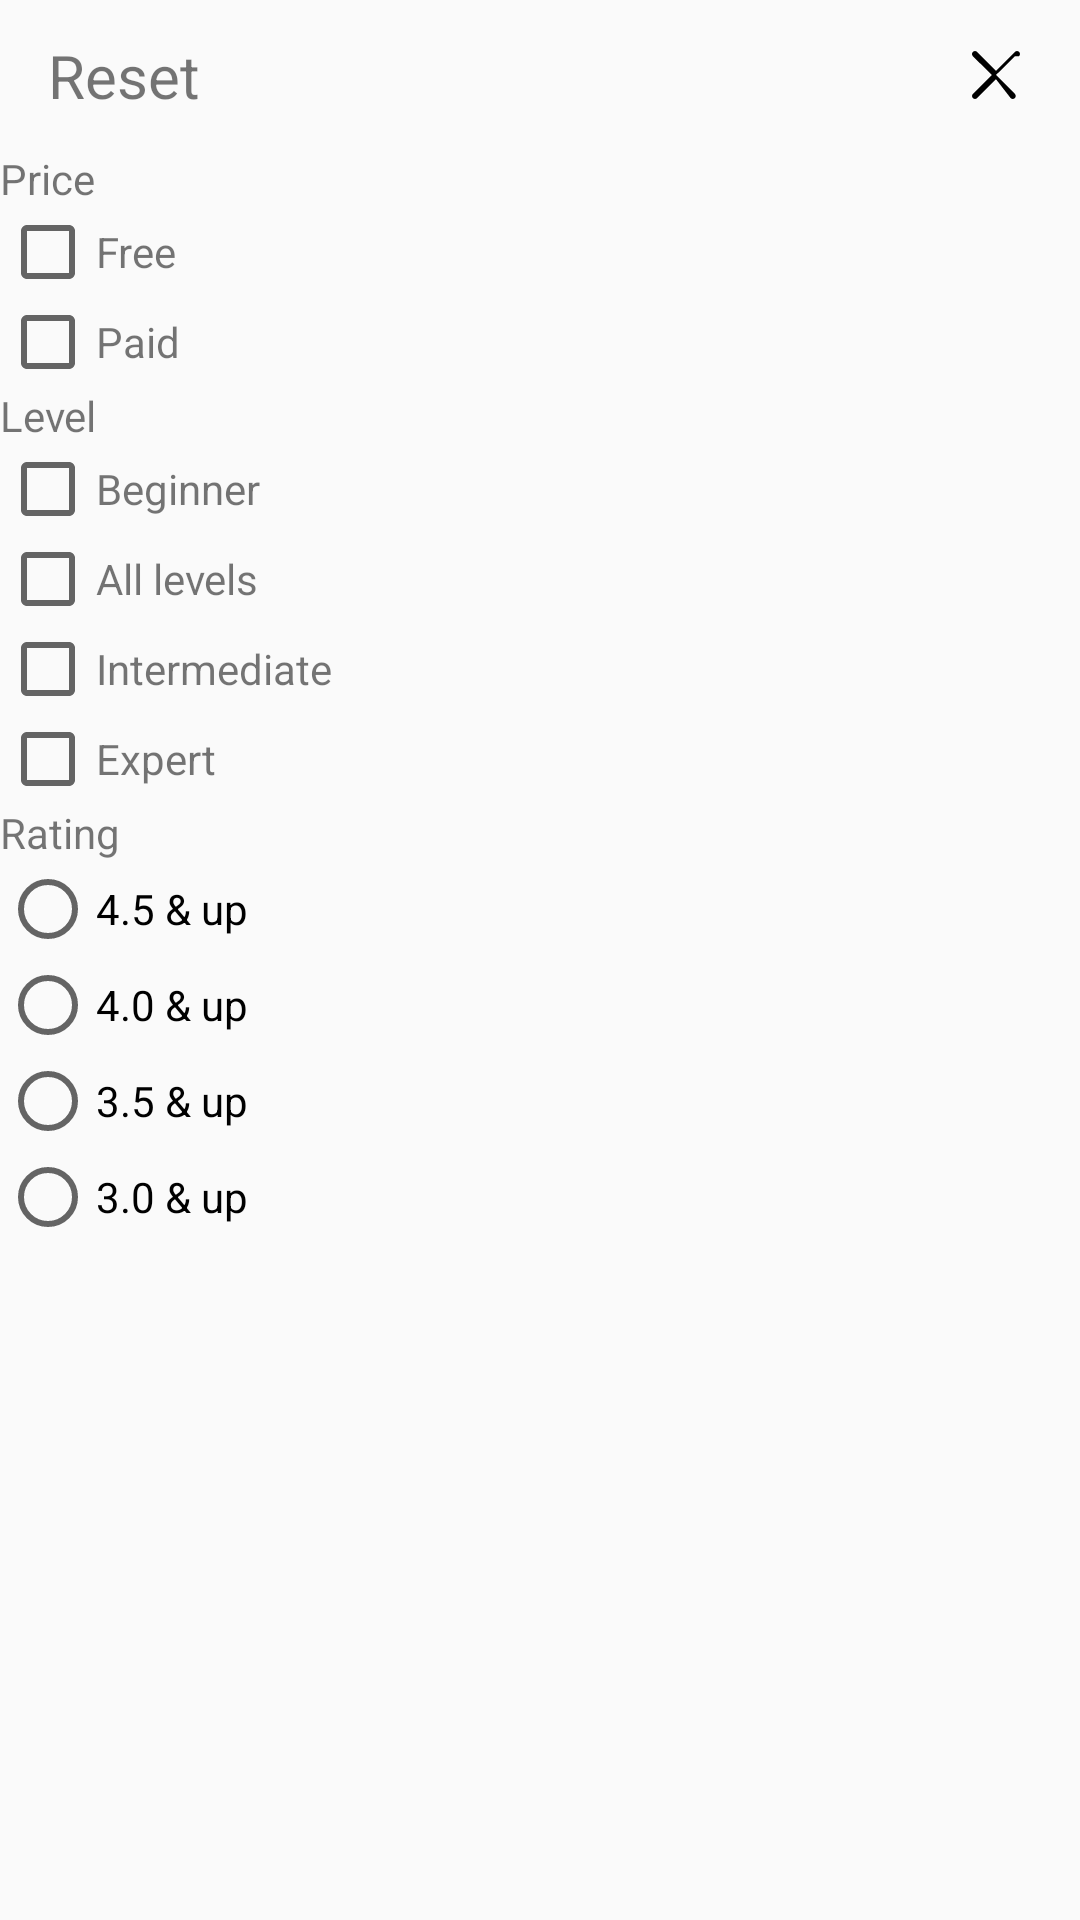

Icon bounding boxes for this 1080×1920 phone screenshot, format (x1, y1, x2, y2):
exist: (972, 51, 1020, 99)
